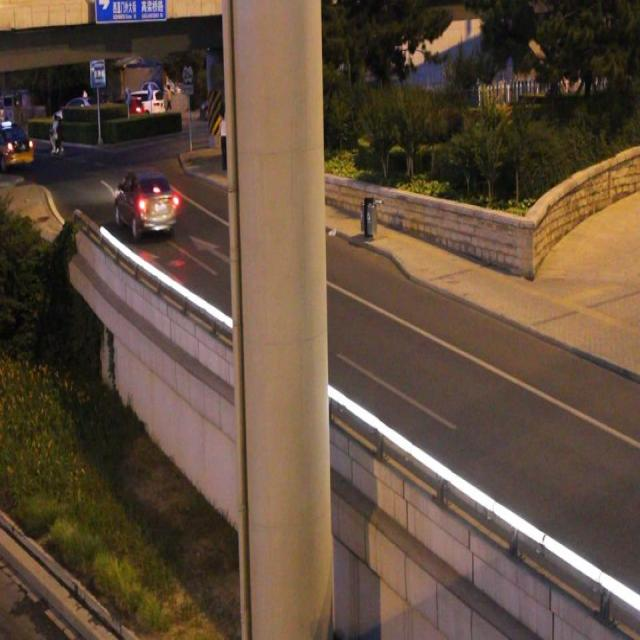car: (116, 171, 176, 234)
